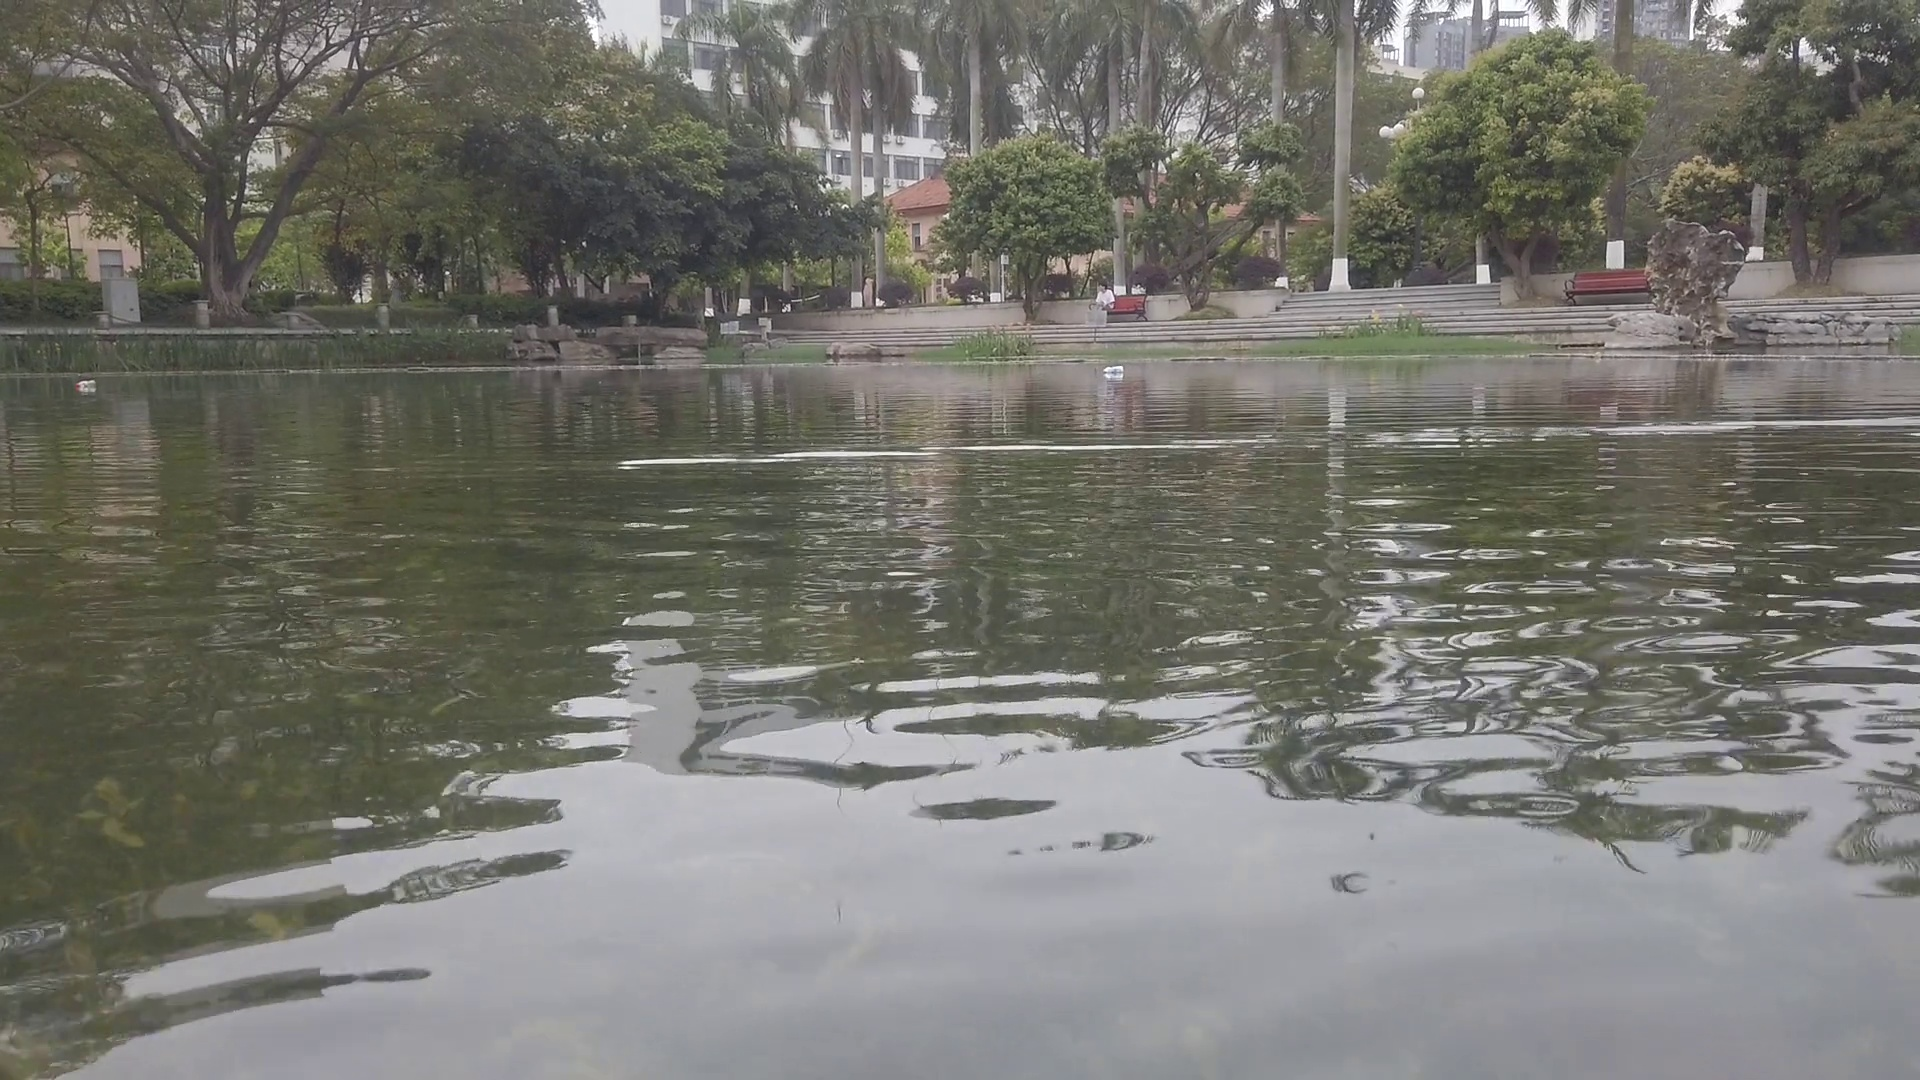bottle: (76, 378, 96, 390), (1102, 365, 1124, 375)
